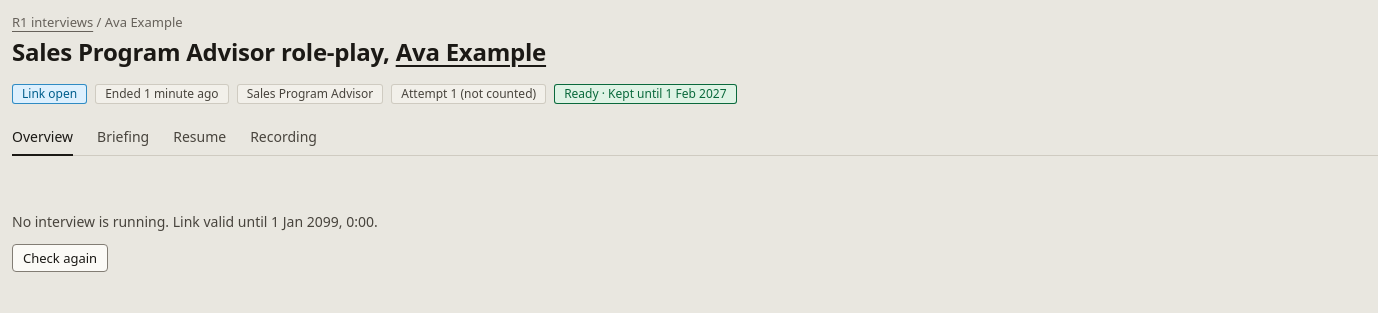
Test: Overview, in every other state › an attempt that ended uncounted: Check again sees a new start, because the page does not poll
This screenshot has width=1378, height=313.
Expected: the element named "R1 review sections" is shown, [12,120,1377,156]
What coordinates should you click on to do the following:
click the button "Check again"
I would click on:
 (60, 258)
Its box is [12,244,108,272].
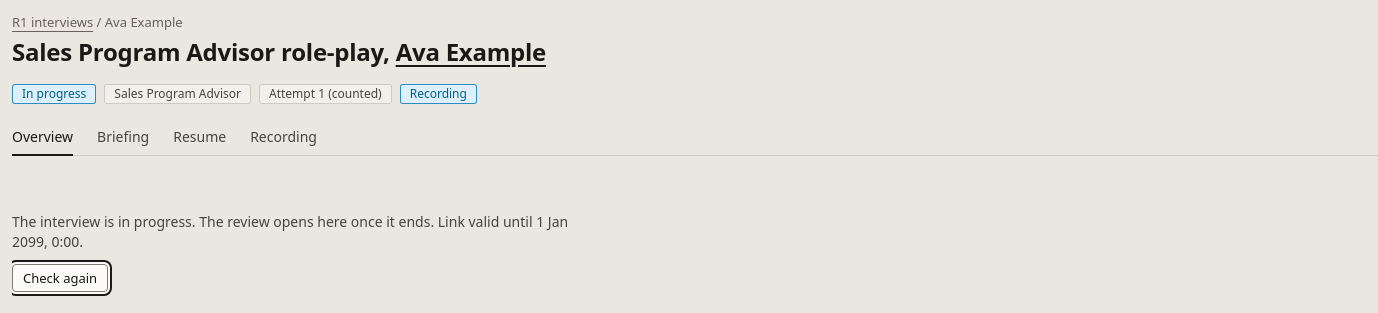
Expected: the text "The interview is in progress" is shown, [12,212,438,231]
